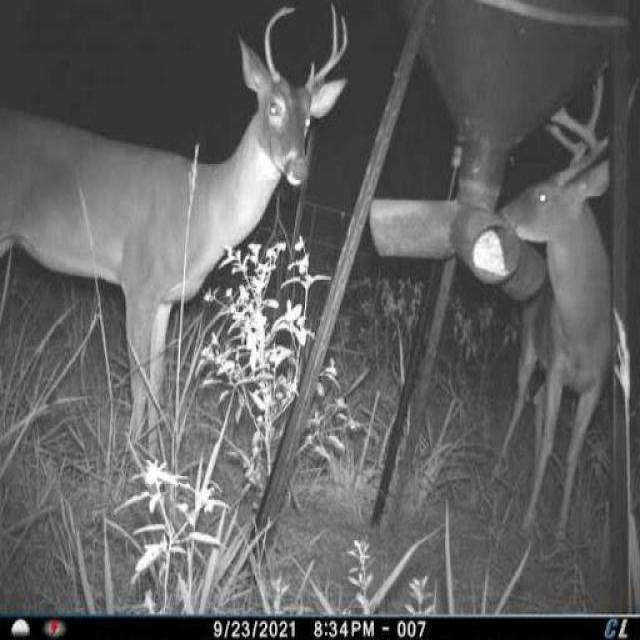deer: (0, 0, 359, 471), (494, 68, 640, 567)
